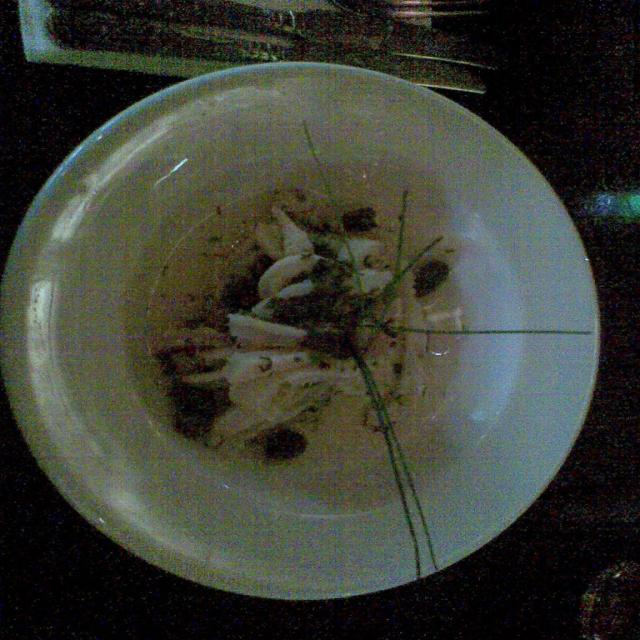non-organic waste: (22, 61, 585, 606)
